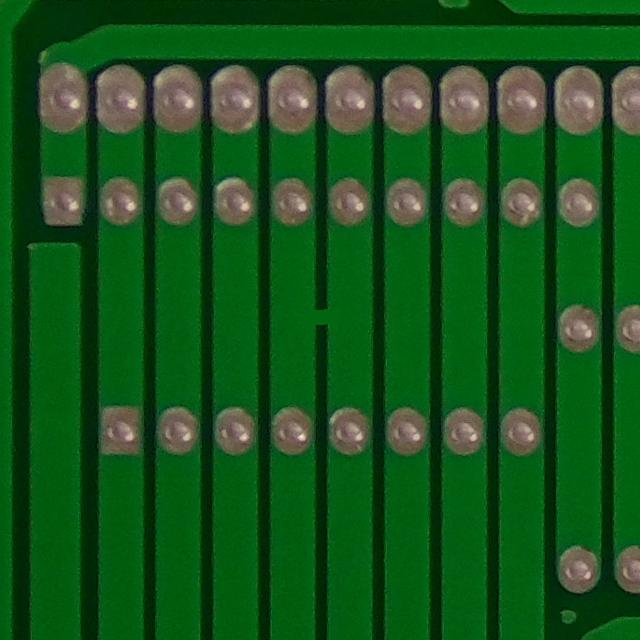short: (272, 269, 369, 371)
